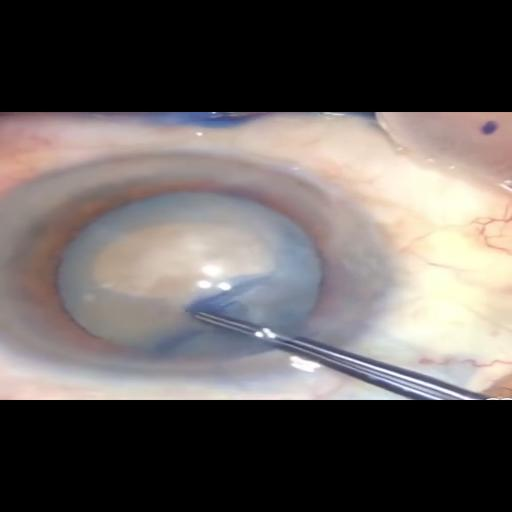catarata: (60, 191, 322, 356)
cornea: (0, 152, 436, 388)
pupil: (10, 185, 356, 364)
